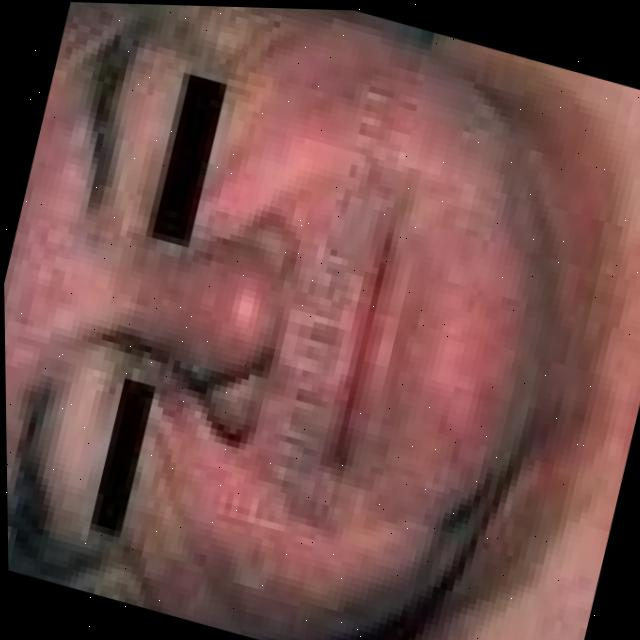Melasma: (124, 397, 399, 640), (357, 249, 535, 474), (225, 18, 373, 189)
